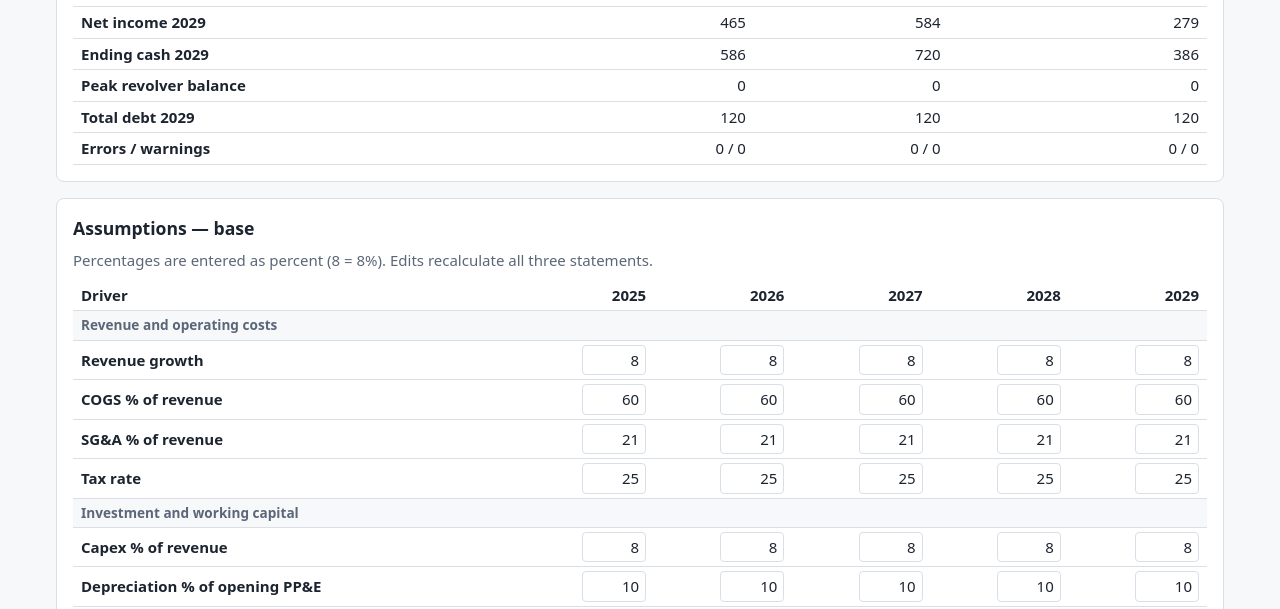
Test: saving › updates with the write token and the version it was based on
(page scrolled)
Type "1" into the field named "Revenue growth, 2025 (percent)". click: (614, 360)
box: left=582, top=344, right=646, bottom=375
(page scrolled)
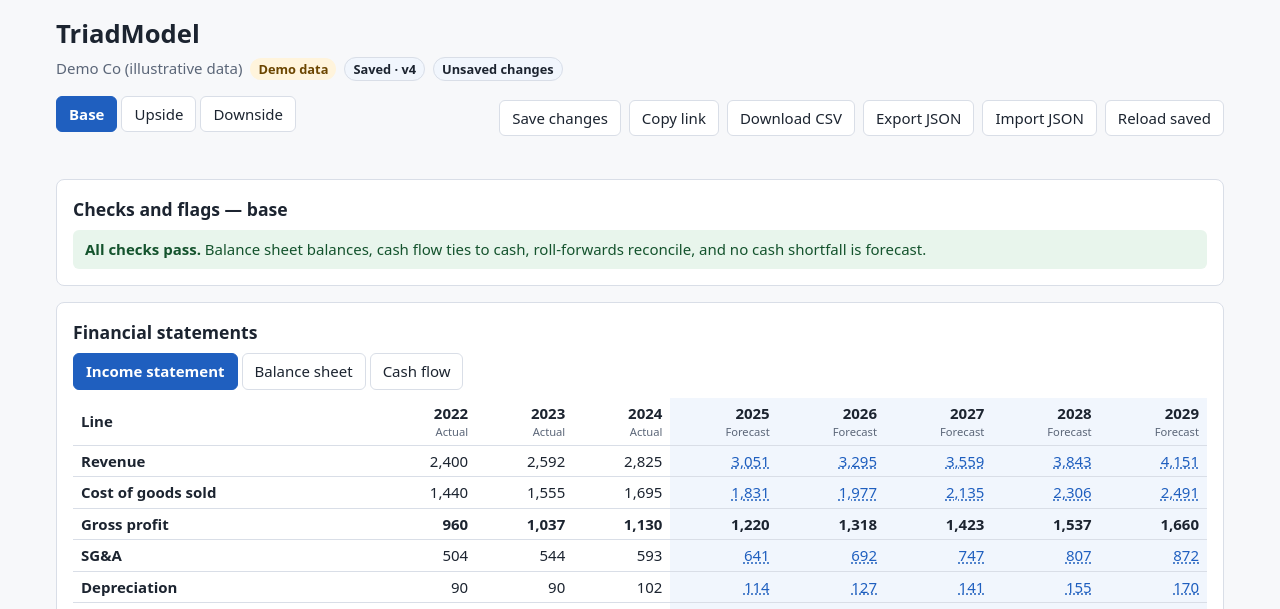
Click the button "Save changes". click: (560, 118)
box: left=499, top=100, right=621, bottom=136
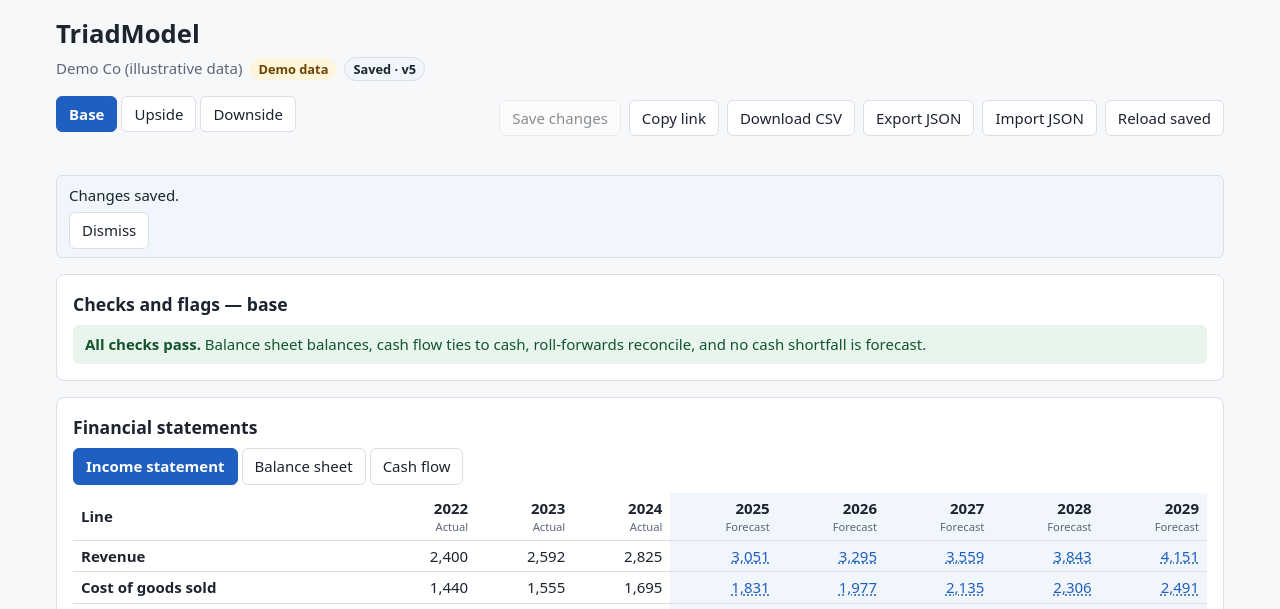
Result: the text "Saved · v5" is shown at left=344, top=57, right=425, bottom=81
